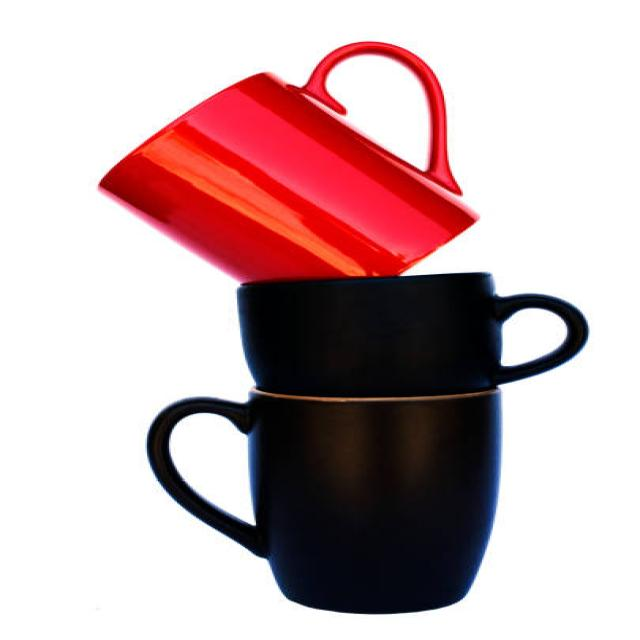Red_cup: (100, 42, 477, 282)
